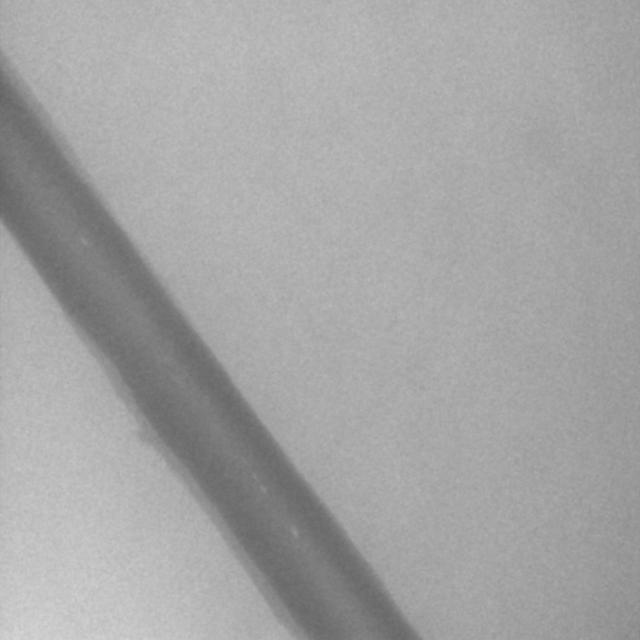air hole: (288, 523, 301, 539), (77, 233, 89, 248)
